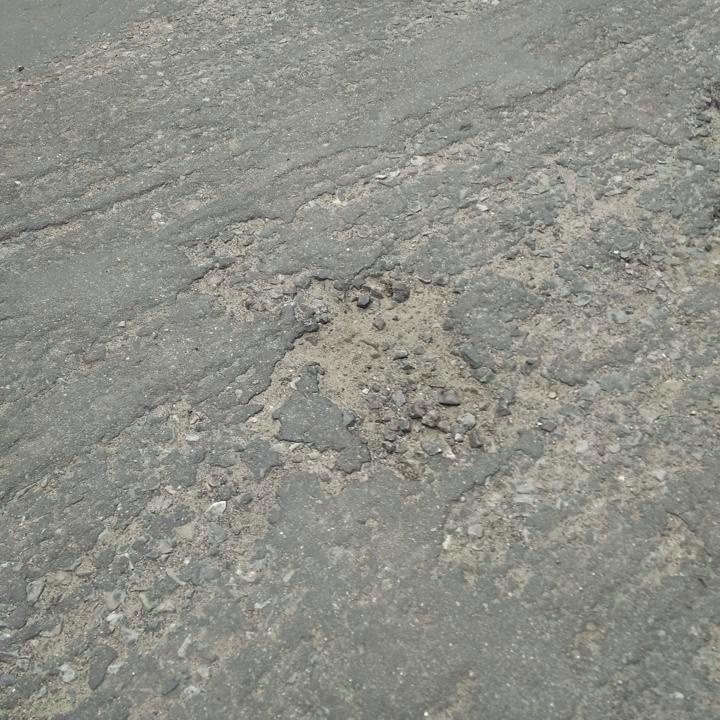pothole: (272, 263, 496, 467)
